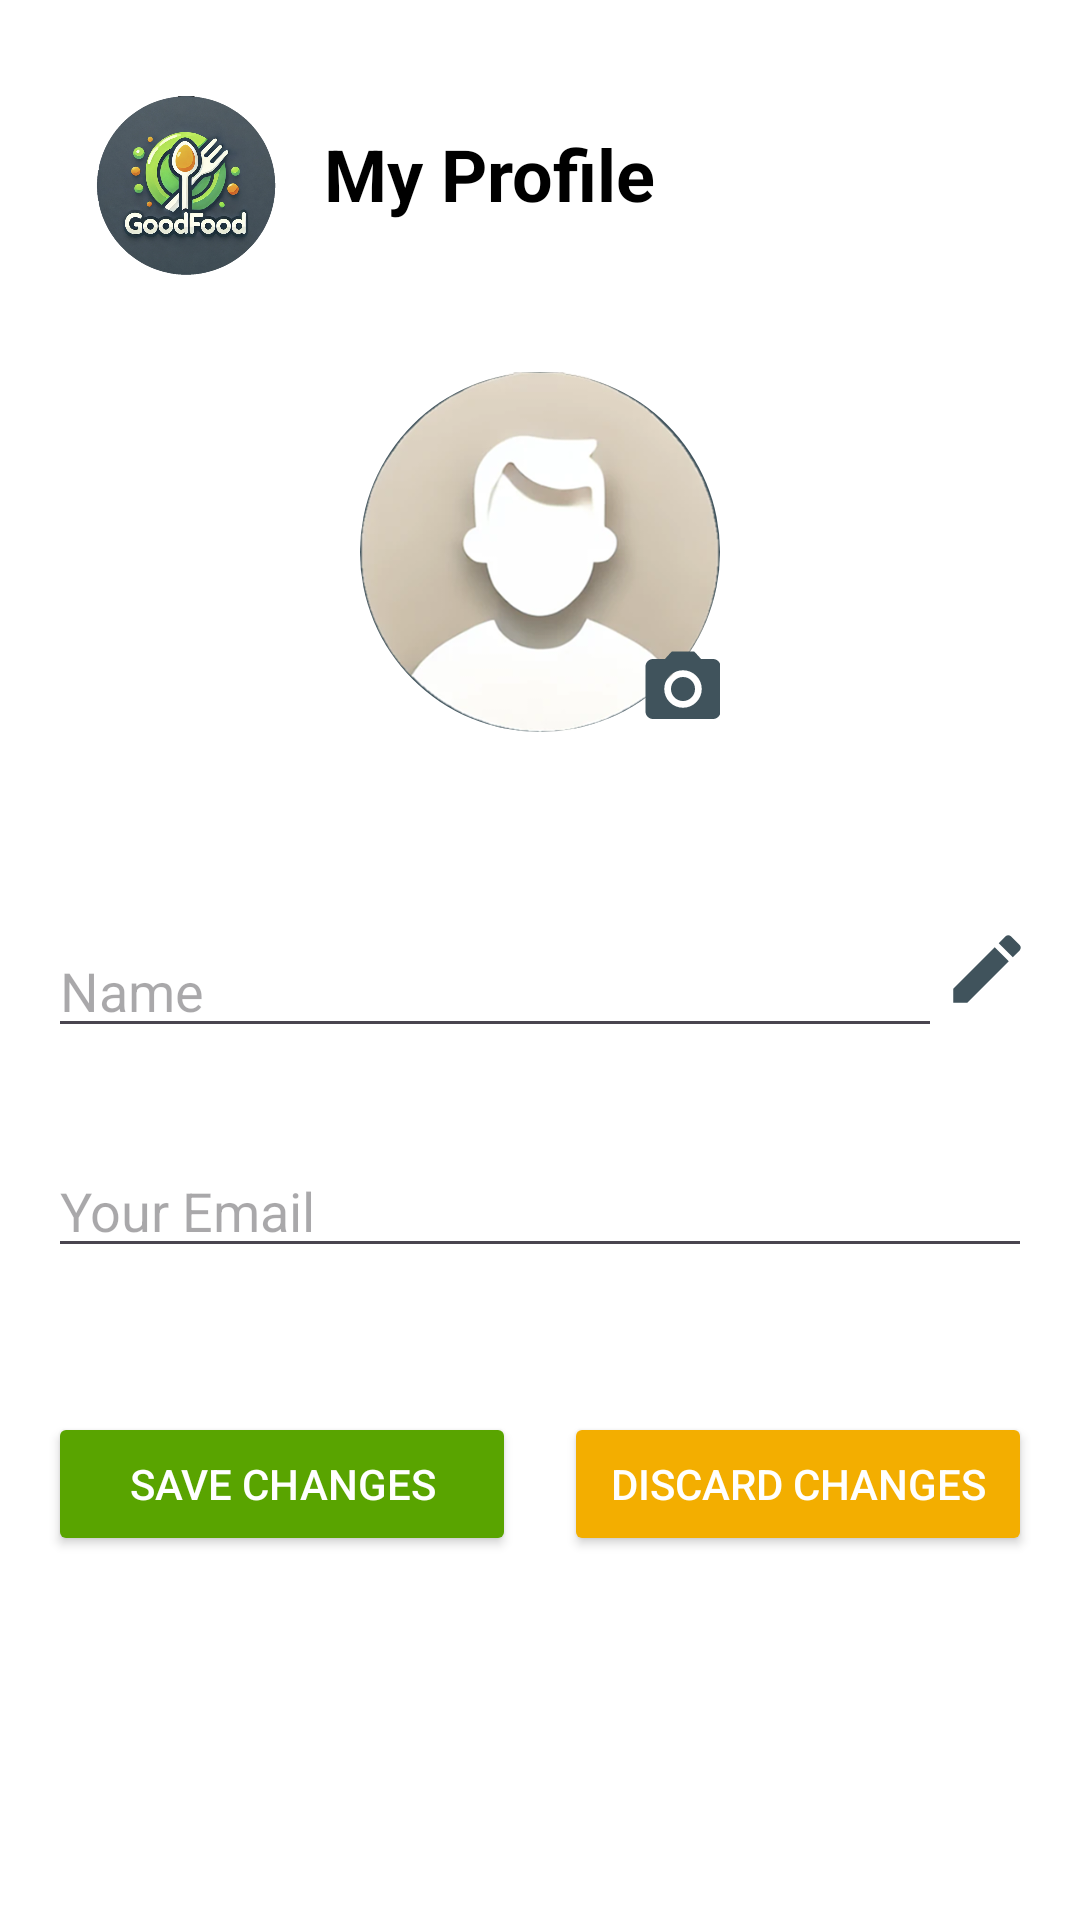

Icons on this 1080×1920 Android screen, each with the point to tap as (x,y):
user profile: (540,552)
